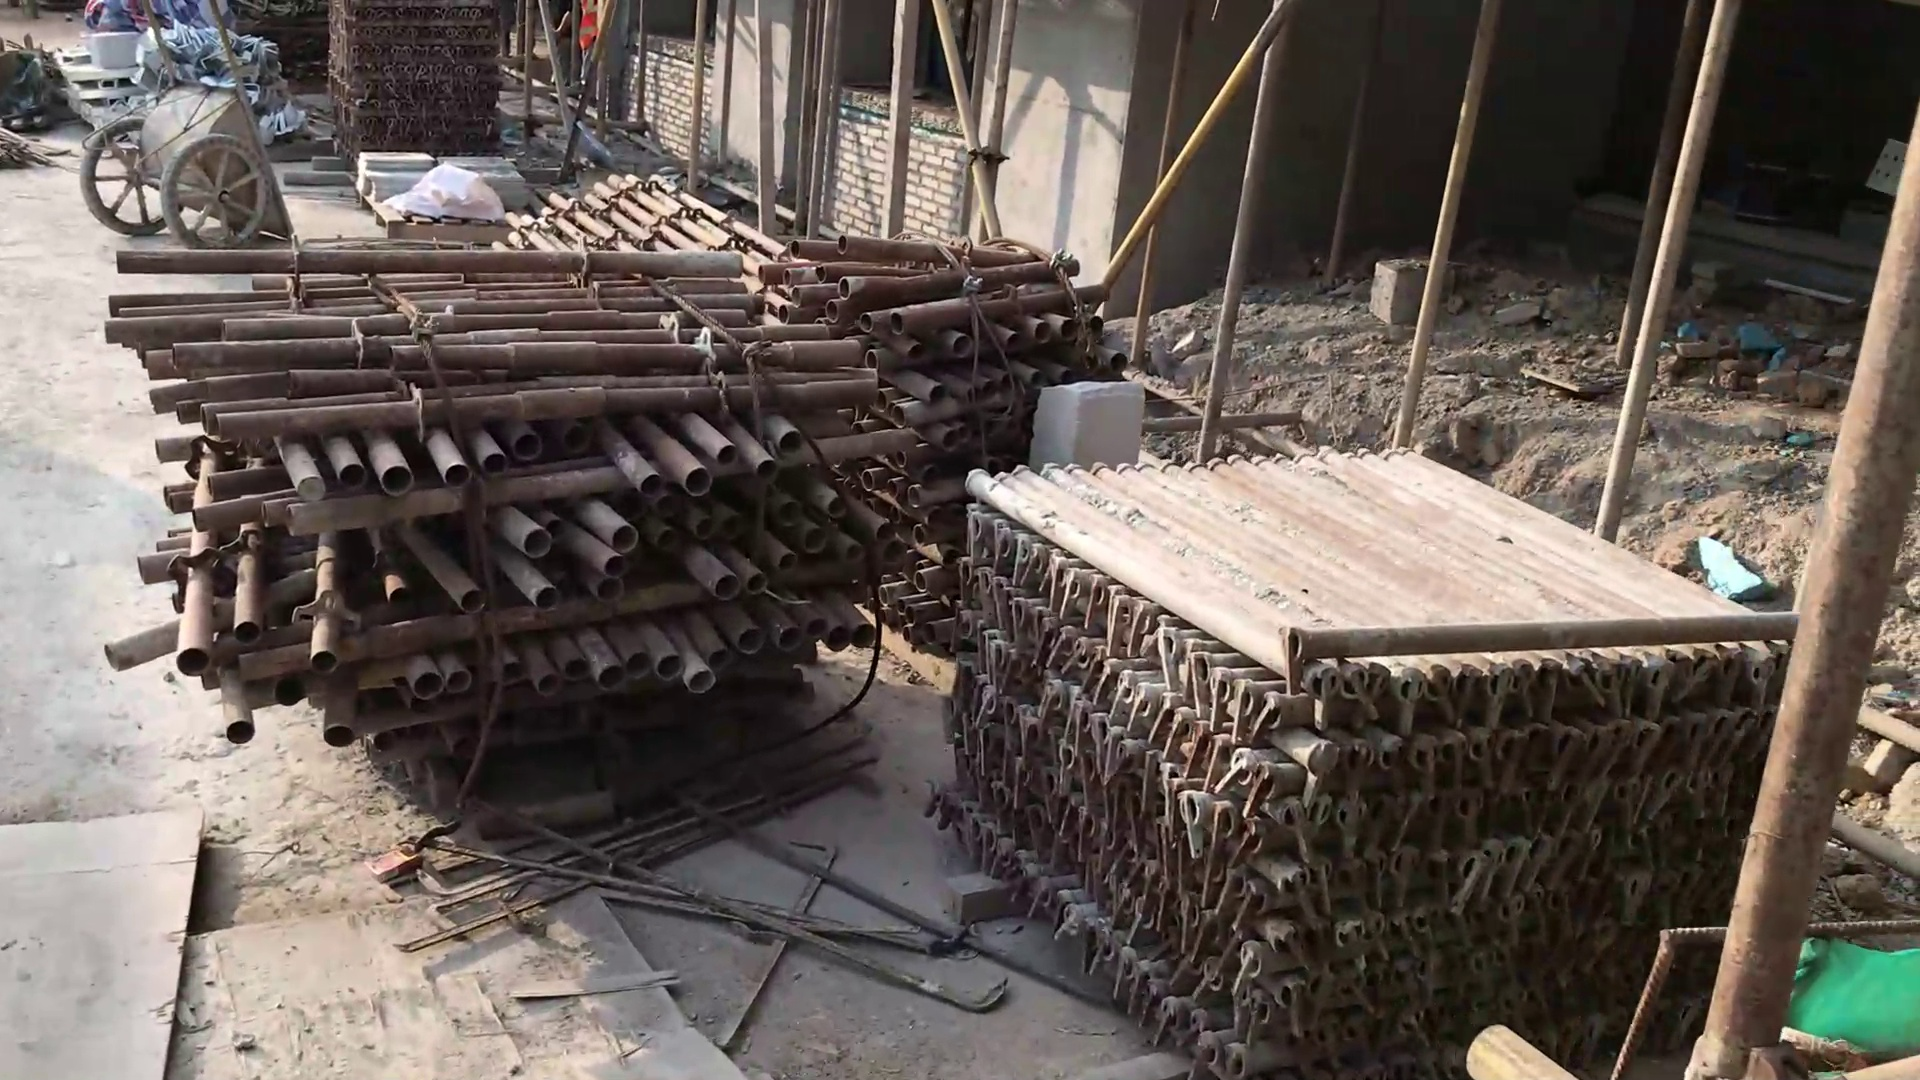handcart: (79, 1, 301, 255)
scaffold: (942, 438, 1812, 1079), (117, 232, 1120, 744), (326, 1, 502, 162), (514, 175, 787, 261)
vest: (578, 1, 603, 55)
